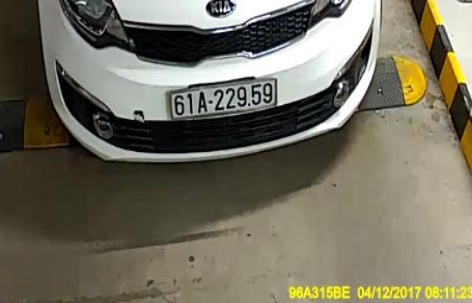plate: (166, 80, 280, 117)
